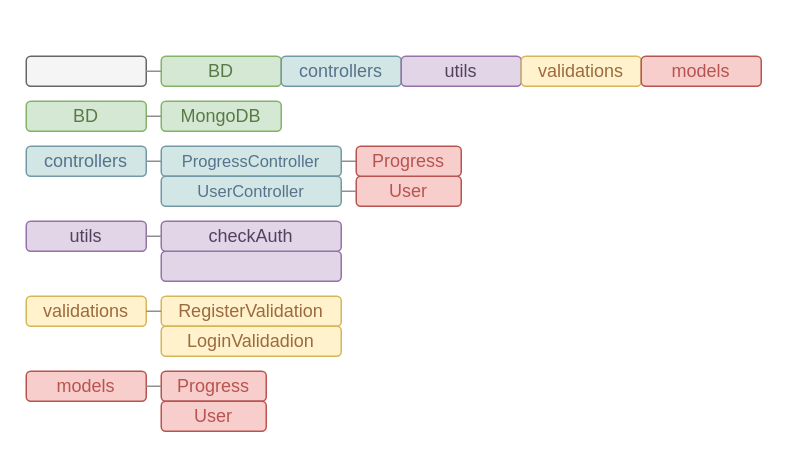
Image size: 788x458. Some labels were removed from this diagram. Here are the shapes that lost their labels. From the top down, the box of each, then its label:
(25, 55, 146, 86): server
(160, 250, 341, 281): handleValidationErr
